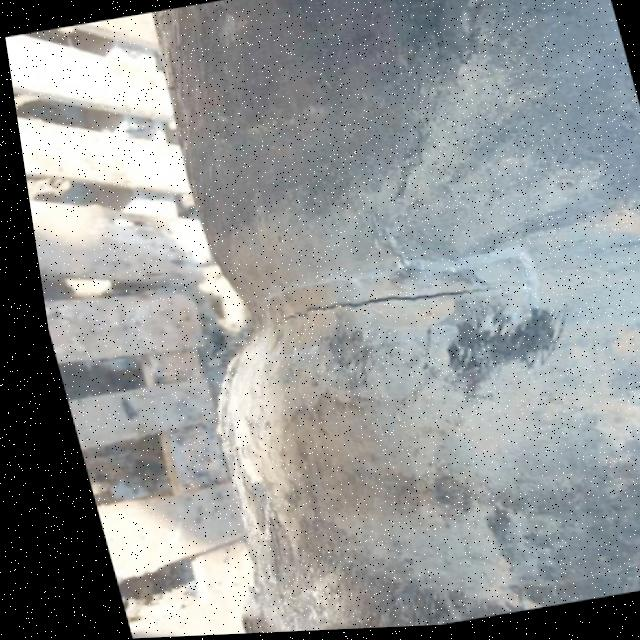crack: (255, 284, 506, 335)
